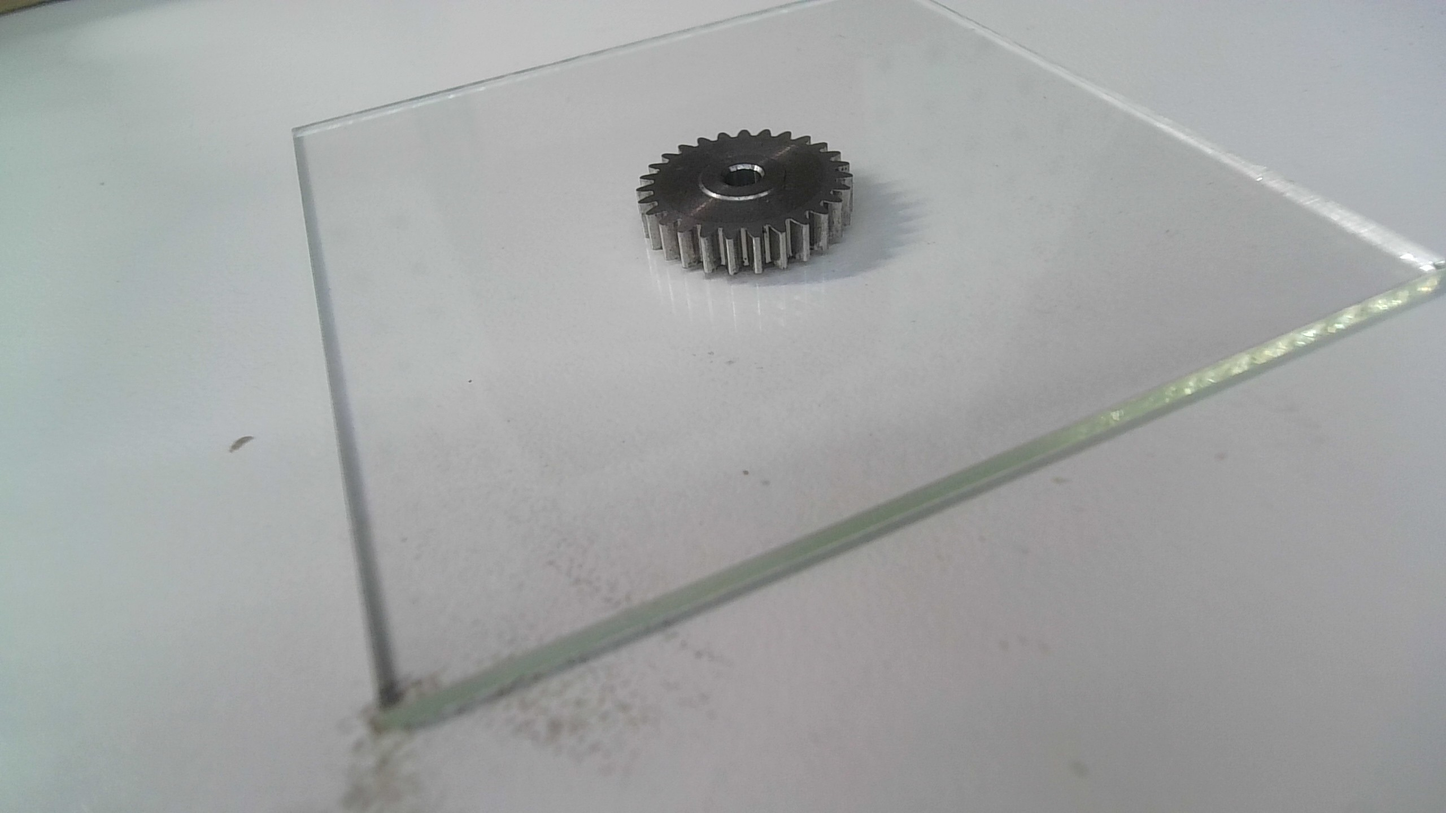gear: (634, 124, 861, 276)
